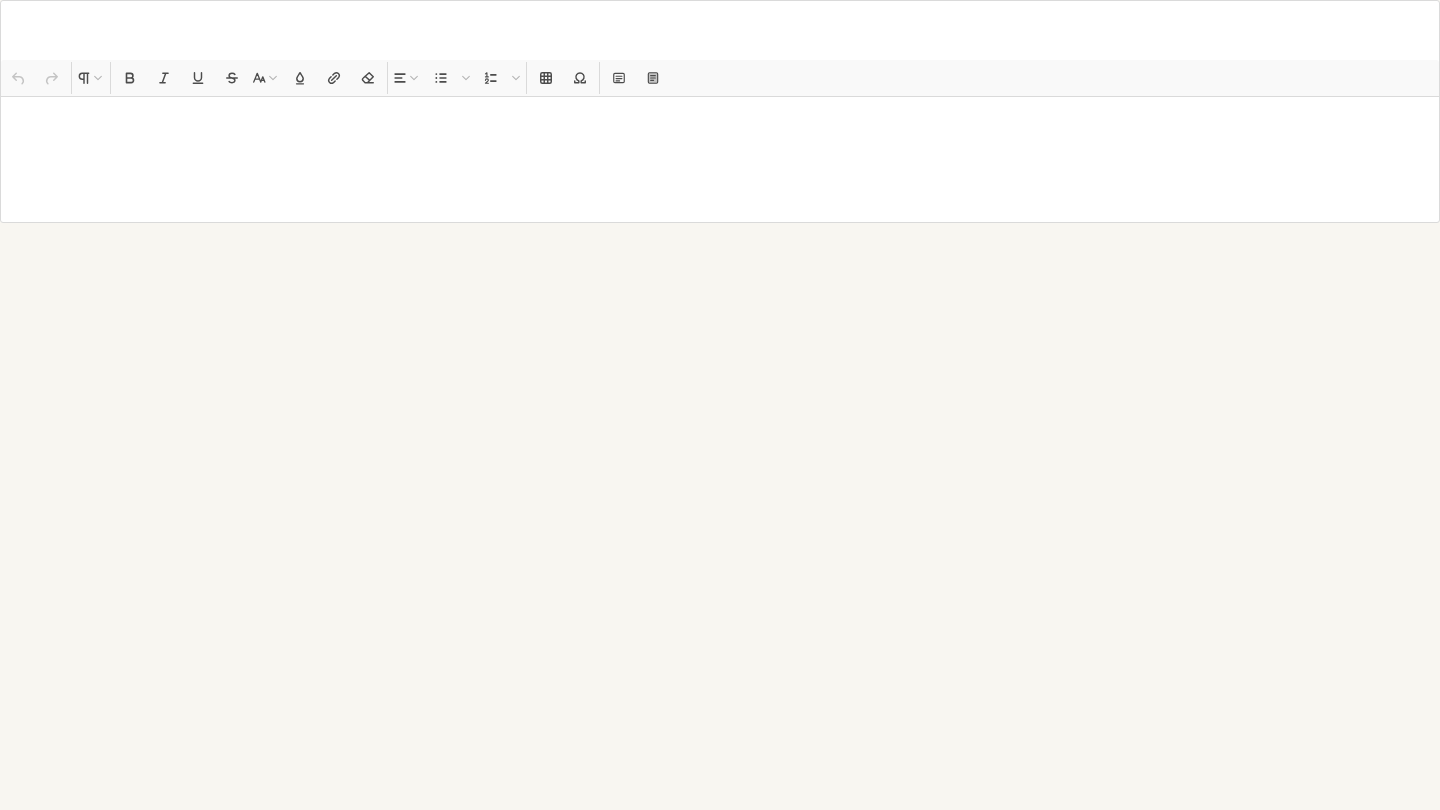
fourth review fixes › 1: leaving the link form for another field keeps focus on that field
The width and height of the screenshot is (1440, 810).
Click the button named "Havola" at (334, 78), box [317, 61, 351, 95]
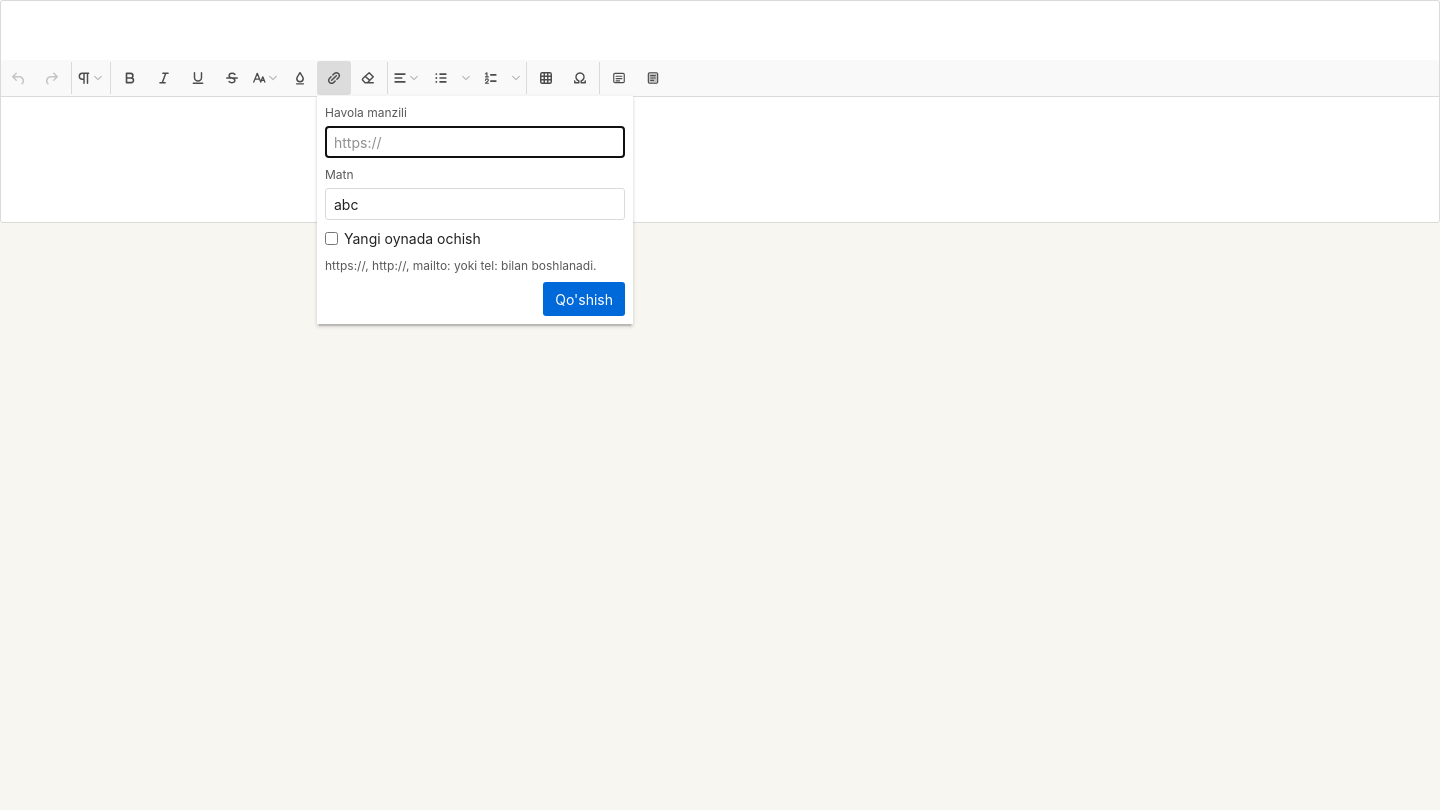
Leave the field labelled "Havola manzili", box [325, 126, 625, 158]
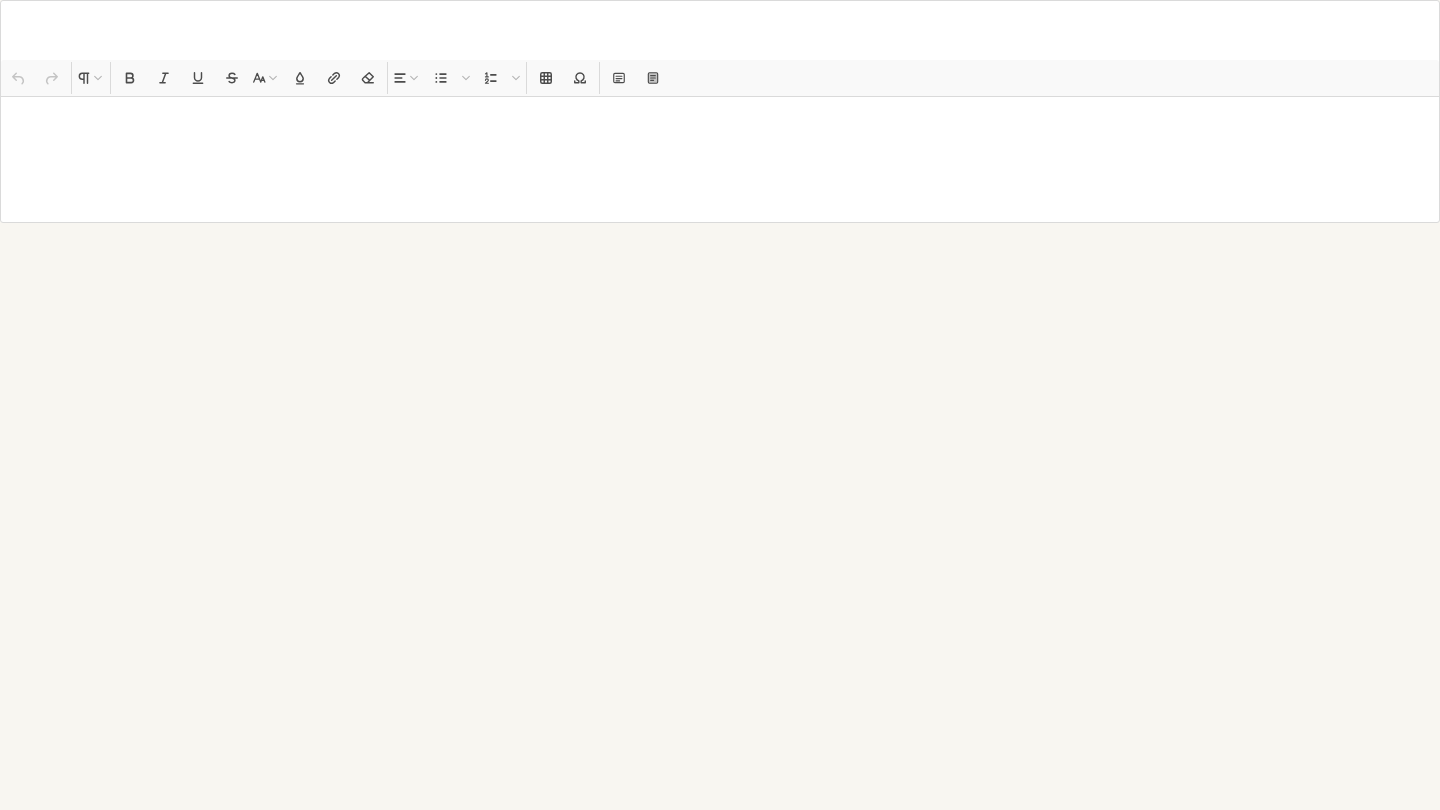
expect the form with class "rich-editor__form" is gone: met
